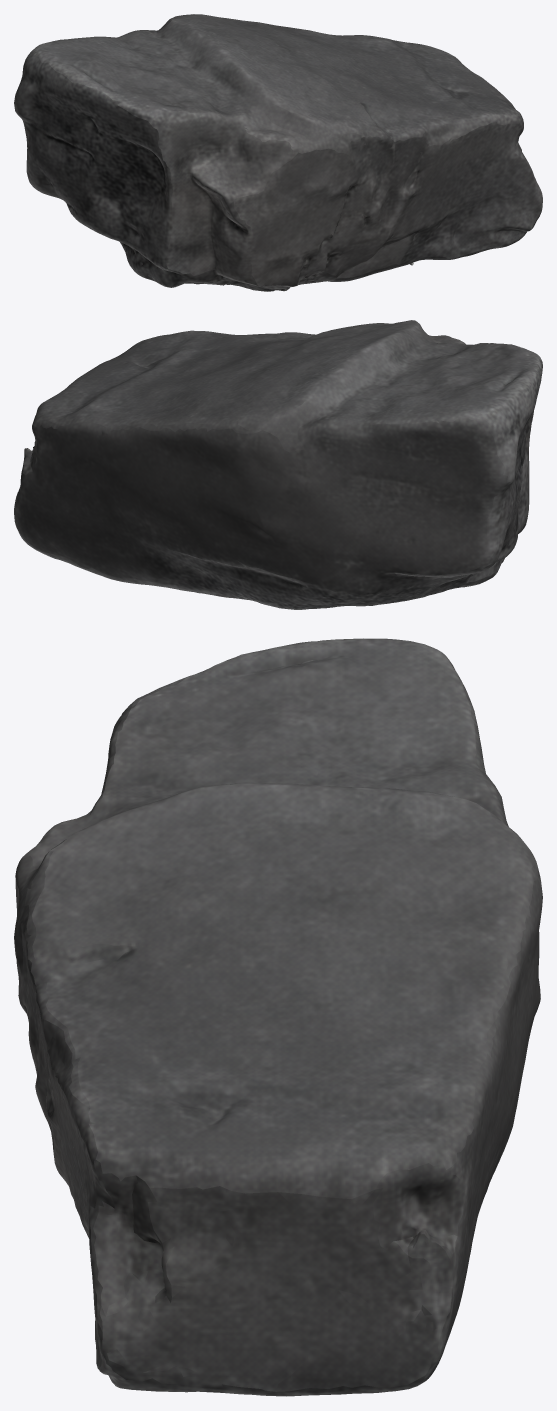
3 renders of one model, top to bottom at view 1: azimuth 30°, elevation 25°; view 2: azimuth 150°, elevation 25°; view 3: azimuth 270°, elevation 25°, orthographic. The views are drawn at different scales.
Visible parts, largest first — view 1: world; view 2: world; view 3: world.
Boxes of the visible parts, left/top/right/bottom form: world: left=14, top=14, right=542, bottom=291; world: left=14, top=320, right=542, bottom=609; world: left=14, top=638, right=542, bottom=1396.
Bounding box in the file's own units: 3.5 × 1.75 × 2.05.
1 material, 1 textured.
